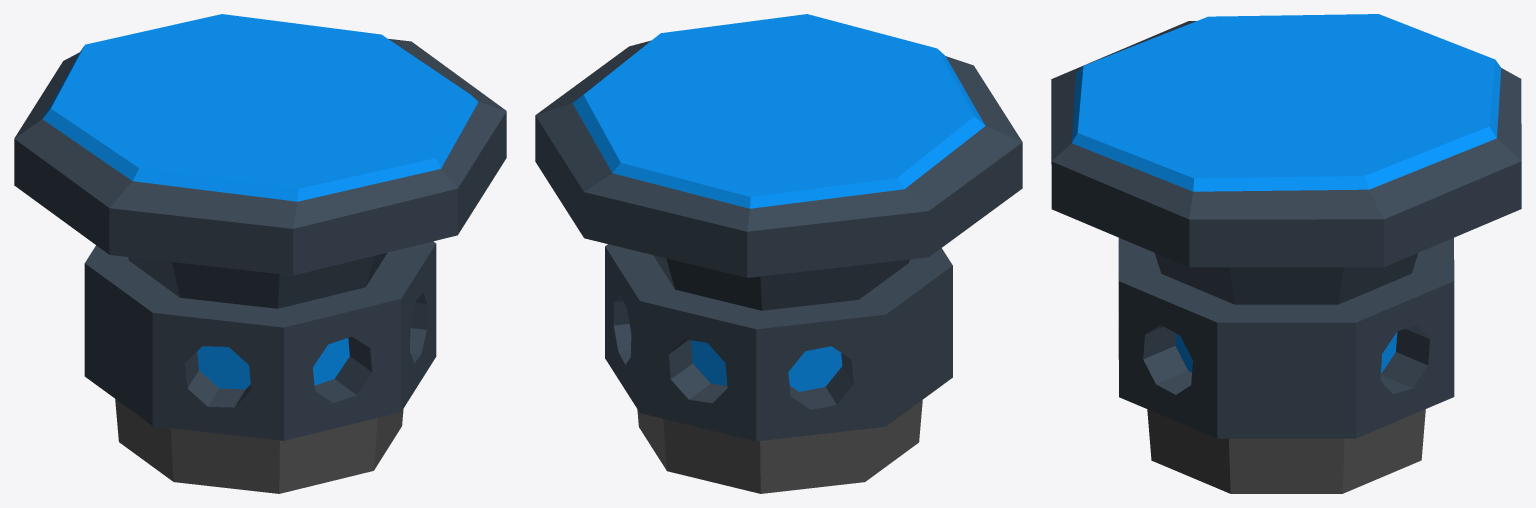
The model's file is Obstacle2.fbx.
The picture shows the model from 3 angles, left to right: view 1: azimuth 30°, elevation 25°; view 2: azimuth 150°, elevation 25°; view 3: azimuth 270°, elevation 25°; orthographic projection. The views are drawn at different scales.
Visible parts, largest first — view 1: Obstacle2; view 2: Obstacle2; view 3: Obstacle2.
Boxes of the visible parts, bbox=[...] form: Obstacle2: bbox=[14, 14, 506, 493]; Obstacle2: bbox=[535, 14, 1022, 493]; Obstacle2: bbox=[1051, 14, 1521, 493].
Size of the model in its own units: 27.28 by 21.81 by 27.28.
